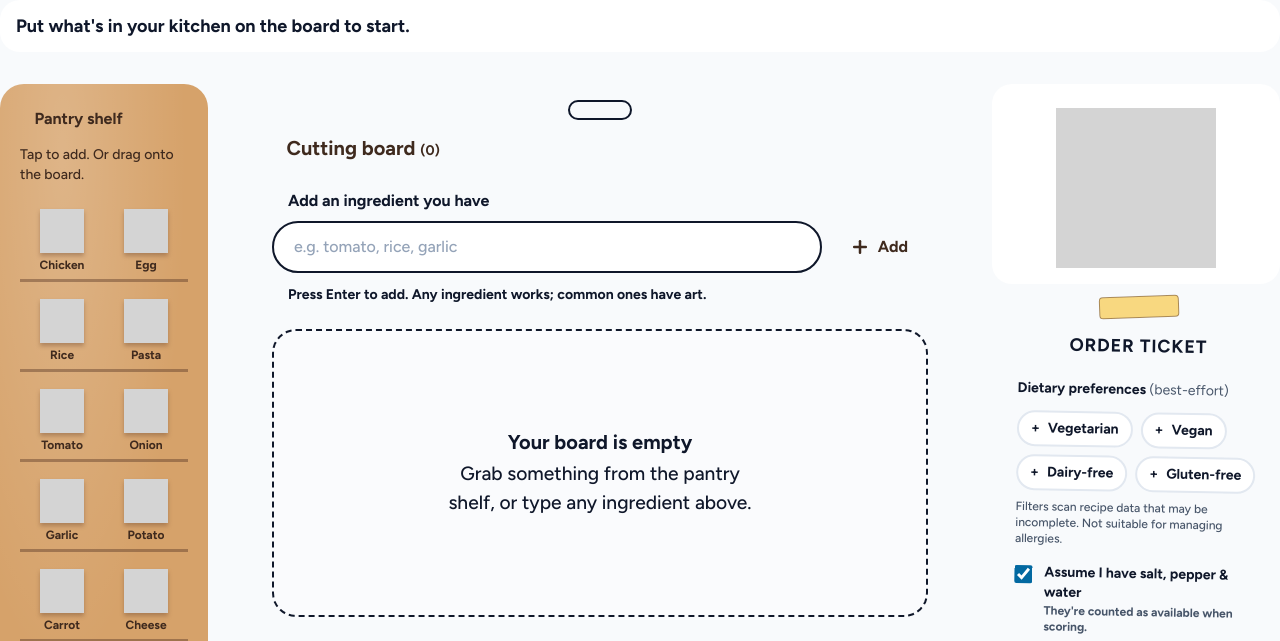
Test: PantryQuest › closes suggestions with Escape
Type "tom" into the dropdown labelled "Add an ingredient you have" at [547, 247], box [272, 221, 822, 273]
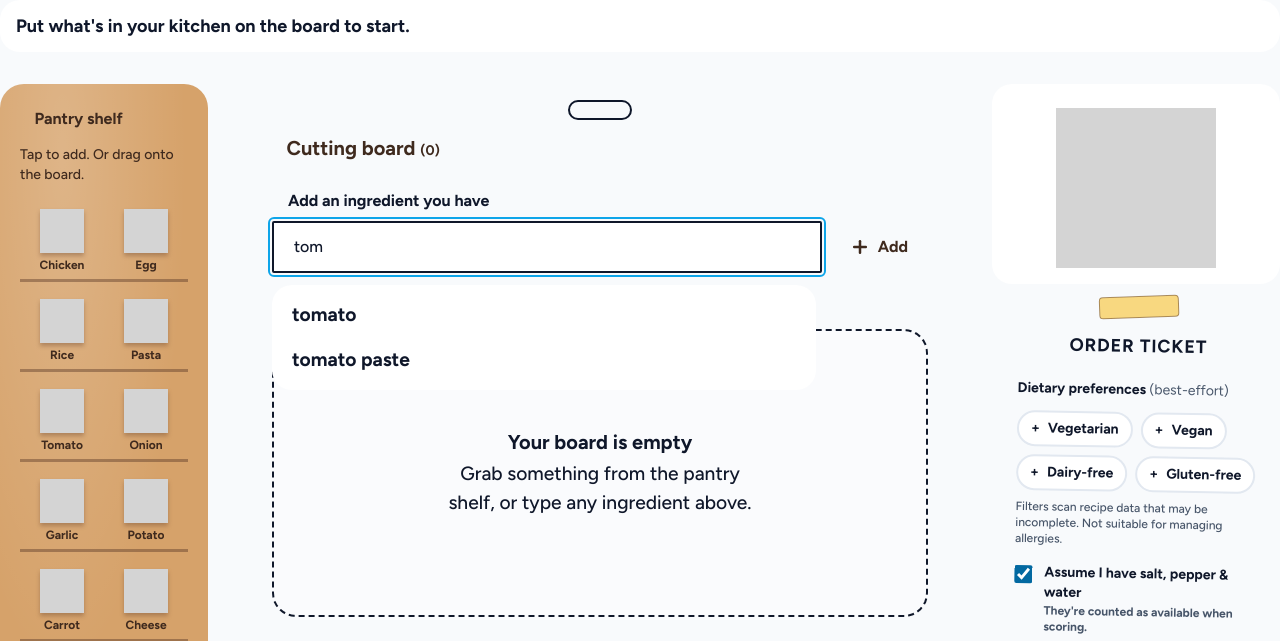
Press Escape
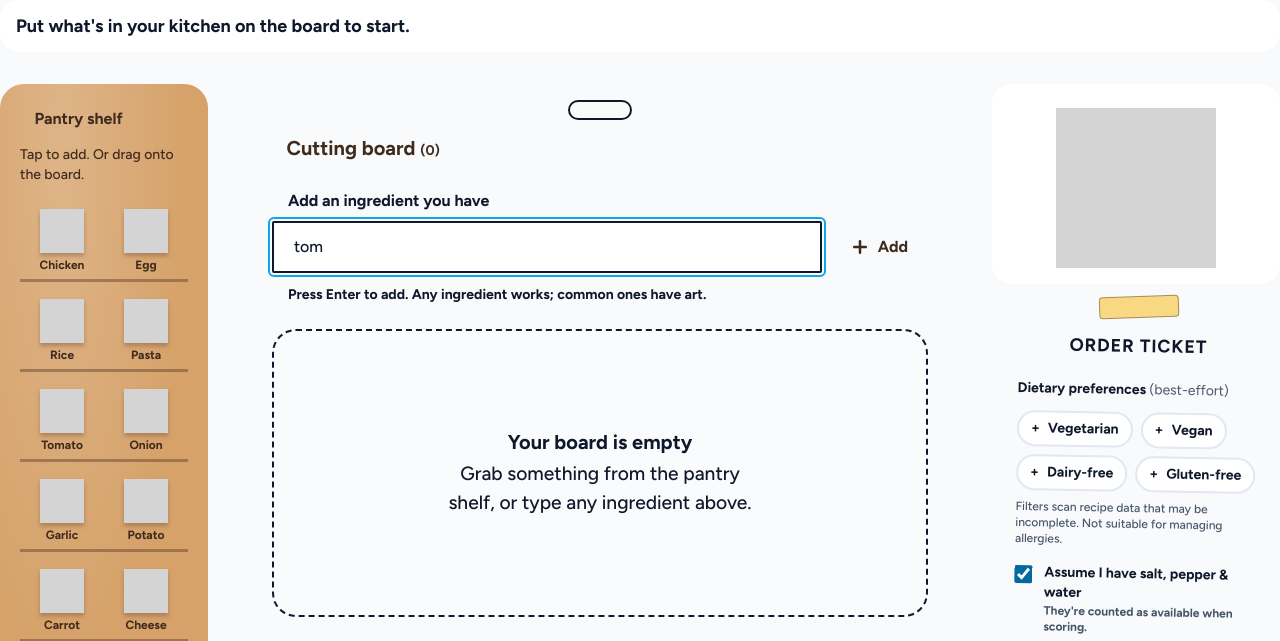
Expected: the list "tomato tomato paste" is gone
